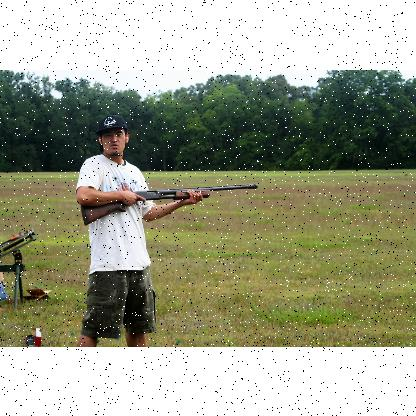gun: (80, 182, 258, 224)
